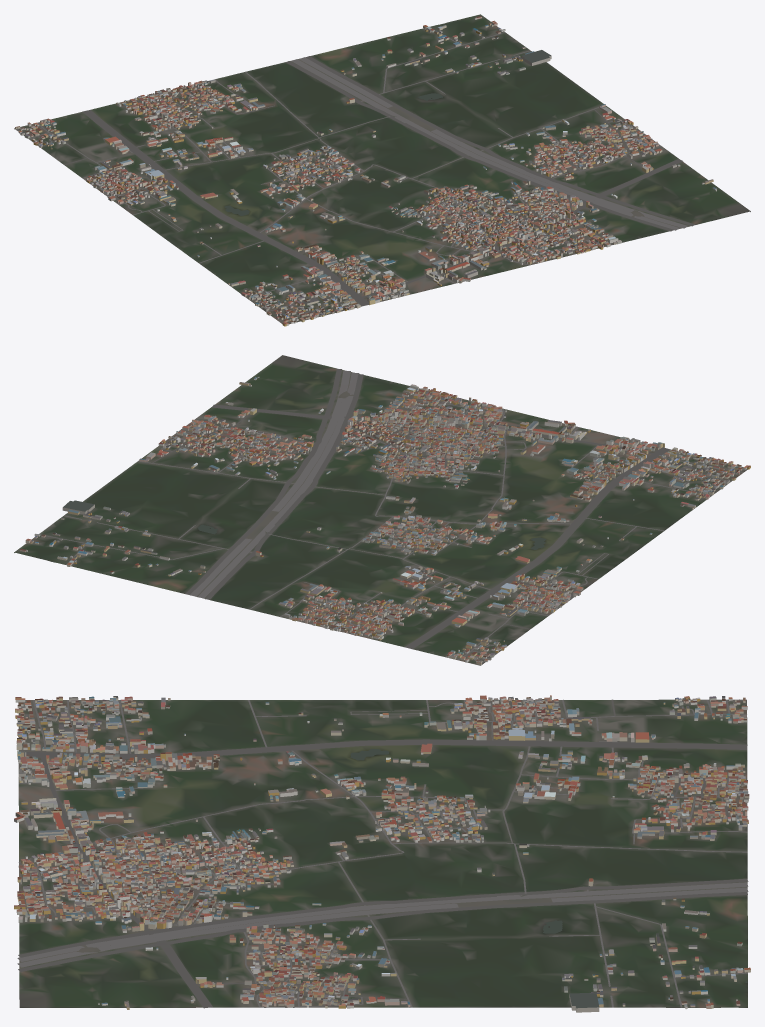
3 renders of one model, top to bottom at view 1: azimuth 30°, elevation 25°; view 2: azimuth 150°, elevation 25°; view 3: azimuth 270°, elevation 25°, orthographic. The views are drawn at different scales.
Parts seen in each view (by area): view 1: ground, buildings, roads; view 2: ground, buildings, roads; view 3: ground, buildings, roads.
Boxes of the visible parts, left/top/right/bottom form: ground: left=14, top=14, right=750, bottom=324; buildings: left=15, top=16, right=716, bottom=326; roads: left=17, top=32, right=695, bottom=321; ground: left=14, top=355, right=747, bottom=665; buildings: left=20, top=376, right=750, bottom=665; roads: left=40, top=369, right=743, bottom=663; ground: left=18, top=699, right=747, bottom=1007; buildings: left=14, top=695, right=750, bottom=1012; roads: left=17, top=699, right=748, bottom=1008.
Bounding box in the file's own units: 1430 × 24.14 × 1418.
